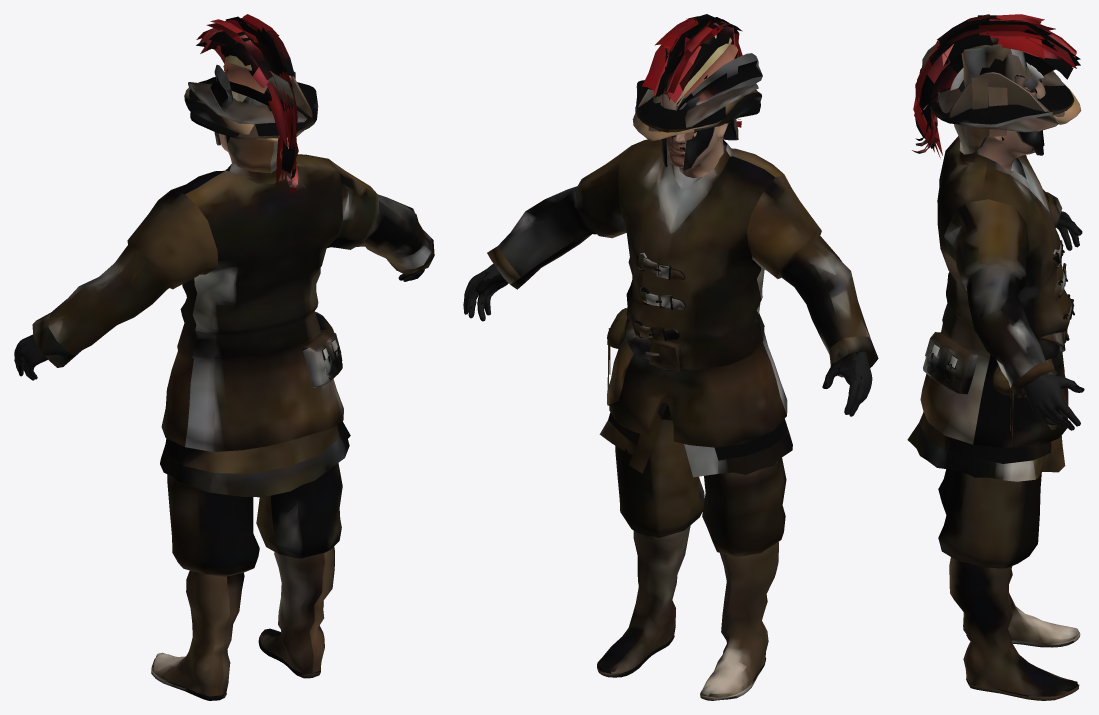
The picture shows the model from 3 angles, left to right: view 1: azimuth 30°, elevation 25°; view 2: azimuth 150°, elevation 25°; view 3: azimuth 270°, elevation 25°; orthographic projection. The views are drawn at different scales.
Parts seen in each view (by area): view 1: mesh_0; view 2: mesh_0; view 3: mesh_0.
Part boxes in pixels (x1,y1,x2,y2): mesh_0: [14, 14, 434, 700]; mesh_0: [463, 14, 878, 700]; mesh_0: [907, 14, 1084, 700].
Bounding box in the file's own units: 49.96 × 77.63 × 19.2.
1 material, 1 textured.
